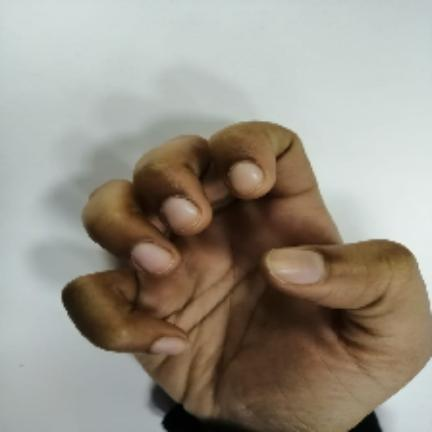Nail: (268, 250, 325, 284), (161, 196, 201, 233), (131, 242, 174, 274), (228, 160, 264, 195), (152, 337, 187, 355)
